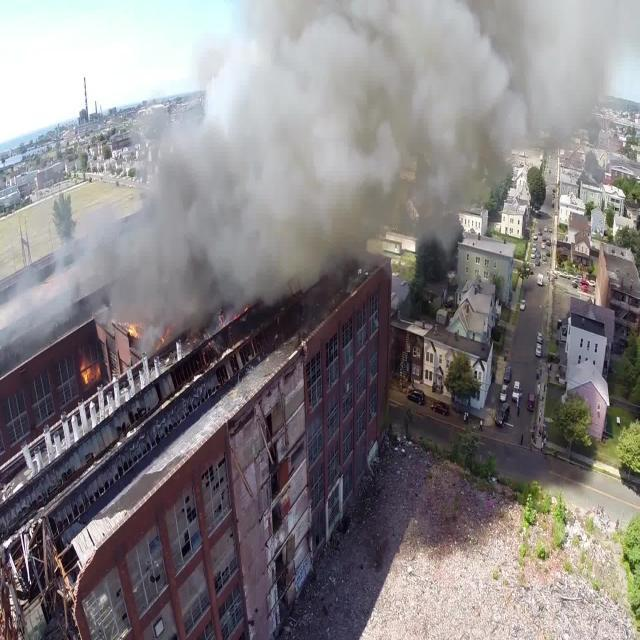Fire: (76, 362, 110, 390), (125, 325, 144, 342)
Smoke: (136, 0, 636, 294)
